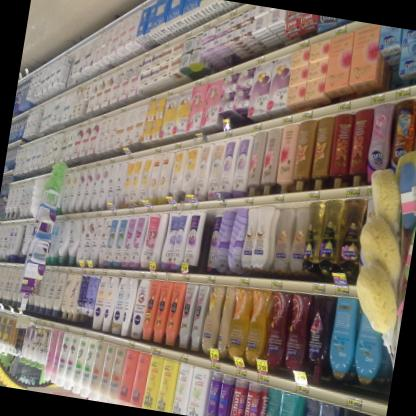empty_space: (199, 207, 215, 265)
